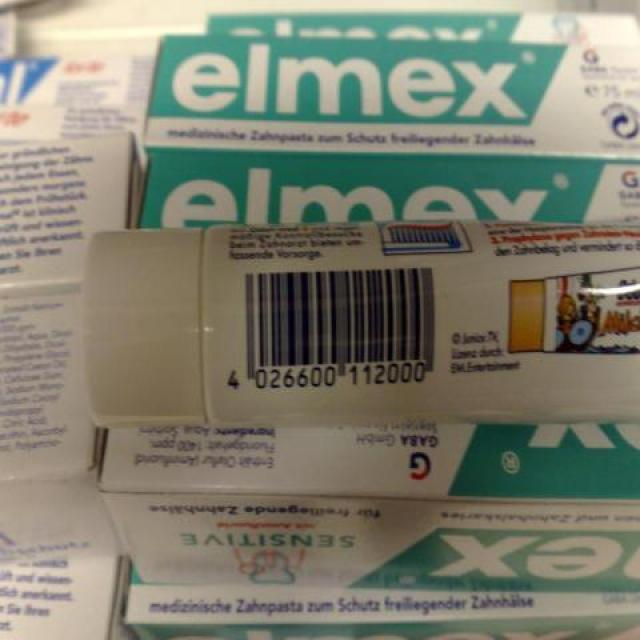Barcode: (220, 257, 440, 407)
